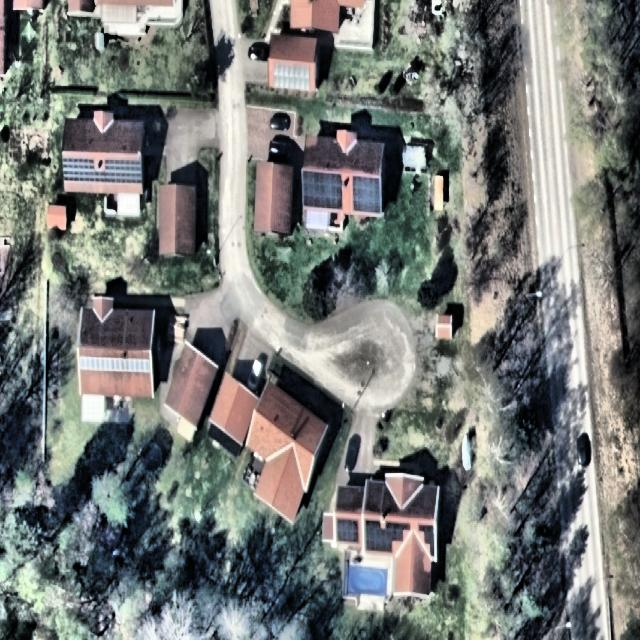roof_pv: (61, 154, 144, 188), (301, 169, 344, 212), (79, 356, 152, 379), (365, 520, 410, 554), (350, 178, 380, 216), (416, 516, 440, 563), (275, 66, 308, 92), (334, 514, 362, 540)
